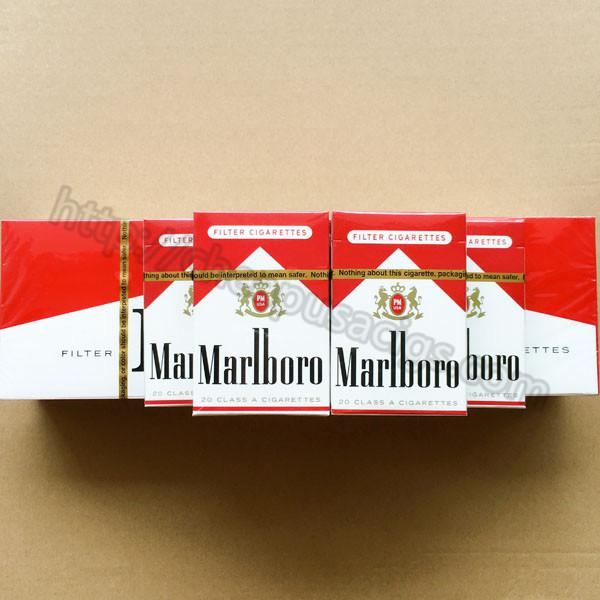marlboro_red: (195, 212, 335, 417), (334, 214, 469, 416)
